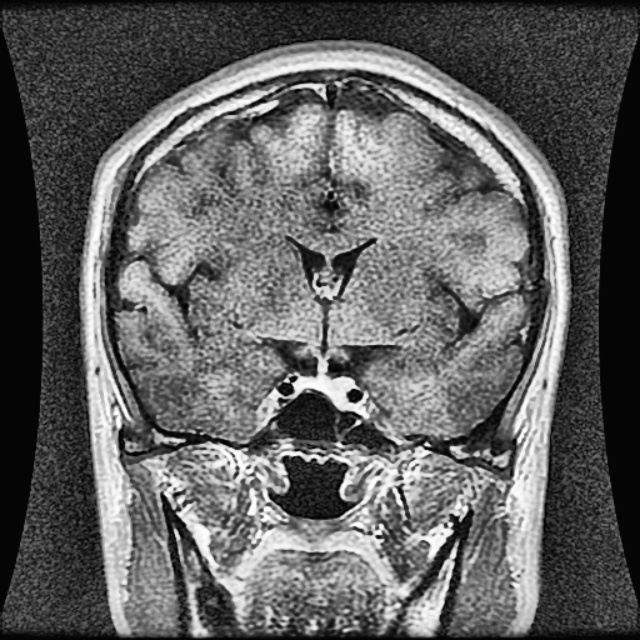Pituitary: (293, 358, 355, 409)
